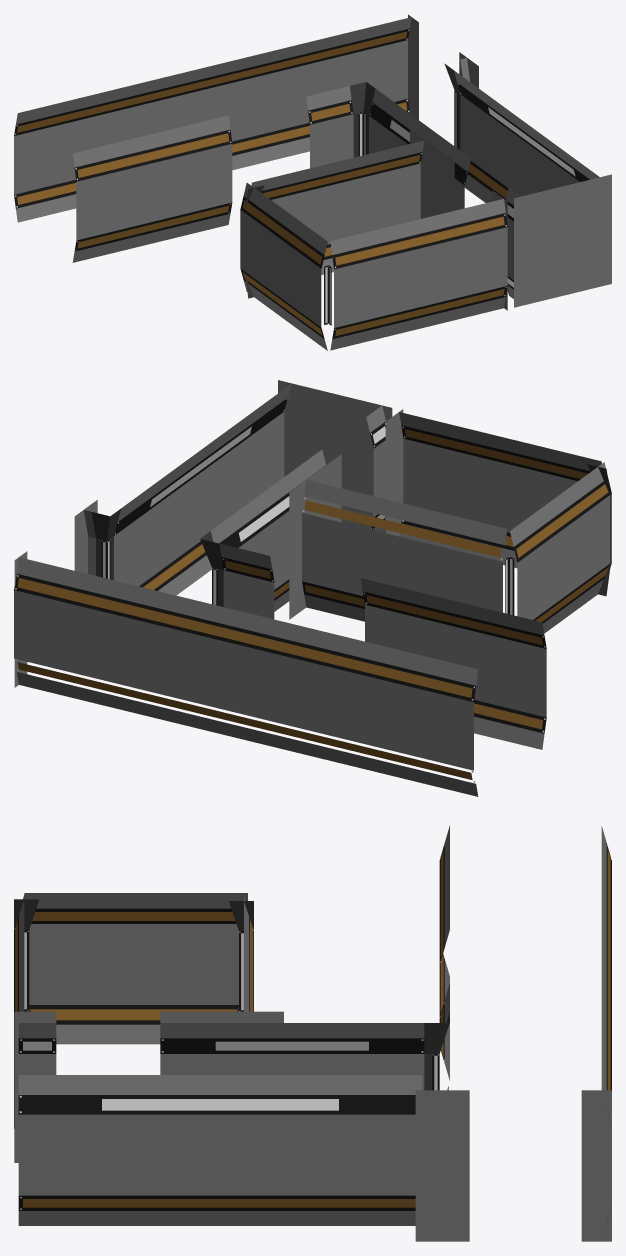
File: Bunker rest(Bent).fbx
3 renders of one model, top to bottom at view 1: azimuth 30°, elevation 25°; view 2: azimuth 150°, elevation 25°; view 3: azimuth 270°, elevation 25°, orthographic. The views are drawn at different scales.
Visible parts, largest first — view 1: MainHallway03, MainHallway06.002, MainHallway02, Plane.002, GeneratorRoom.01, MainHallway06.001, MainHallway05, MainHallway06, MainHallway01, Floor.001, CornerPiece.01, wall.008 (+3 smaller); view 2: MainHallway03, GeneratorRoom.01, MainHallway05, MainHallway02, MainHallway06.002, MainHallway06.001, Plane.002, MainHallway06, MainHallway01, Floor.001, Floor, MainHallway07 (+4 smaller); view 3: MainHallway05, MainHallway06.001, MainHallway06, wall.009, wall.008, MainHallway03, MainHallway07, MainHallway02, Floor.001, CornerPiece.01, Floor, MainHallway06.002 (+3 smaller).
Boxes of the visible parts, x1,y1,x2,y2 form: MainHallway03: [14, 17, 411, 222]; MainHallway06.002: [330, 199, 507, 350]; MainHallway02: [72, 115, 232, 262]; Plane.002: [514, 174, 611, 307]; GeneratorRoom.01: [251, 140, 425, 274]; MainHallway06.001: [240, 182, 327, 350]; MainHallway05: [454, 70, 599, 202]; MainHallway06: [369, 89, 470, 210]; MainHallway01: [306, 86, 353, 168]; Floor.001: [410, 130, 454, 218]; CornerPiece.01: [350, 82, 375, 157]; wall.008: [408, 14, 418, 119]; MainHallway03: [14, 557, 478, 796]; GeneratorRoom.01: [302, 479, 507, 621]; MainHallway05: [114, 383, 291, 595]; MainHallway02: [360, 578, 546, 749]; MainHallway06.002: [399, 412, 601, 568]; MainHallway06.001: [510, 462, 611, 633]; Plane.002: [278, 380, 392, 532]; MainHallway06: [211, 449, 325, 611]; MainHallway01: [219, 543, 274, 619]; Floor.001: [289, 454, 341, 619]; Floor: [385, 409, 403, 536]; MainHallway07: [366, 406, 385, 532]; MainHallway05: [18, 1075, 422, 1225]; MainHallway06.001: [24, 893, 247, 1044]; MainHallway06: [160, 1023, 424, 1090]; wall.009: [415, 1090, 469, 1241]; wall.008: [581, 1090, 611, 1241]; MainHallway03: [601, 826, 611, 1226]; MainHallway07: [18, 1023, 56, 1074]; MainHallway02: [439, 825, 449, 1080]; Floor.001: [160, 1011, 283, 1022]; CornerPiece.01: [424, 1012, 449, 1090]; Floor: [14, 1011, 56, 1162]; MainHallway06.002: [14, 895, 24, 1128].
Size of the model in its own units: 886 by 236 by 843.
